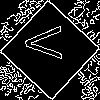V: (25, 25, 72, 61)
